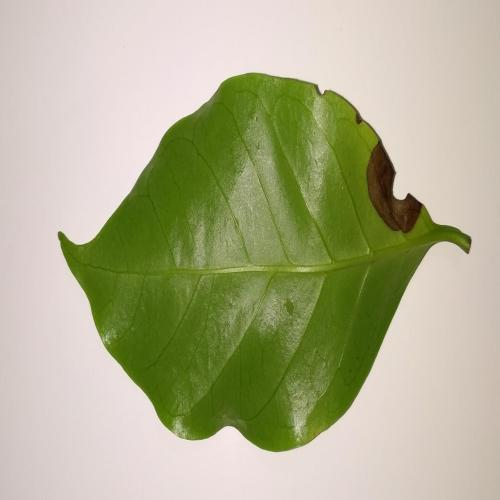miner: (366, 135, 424, 232)
